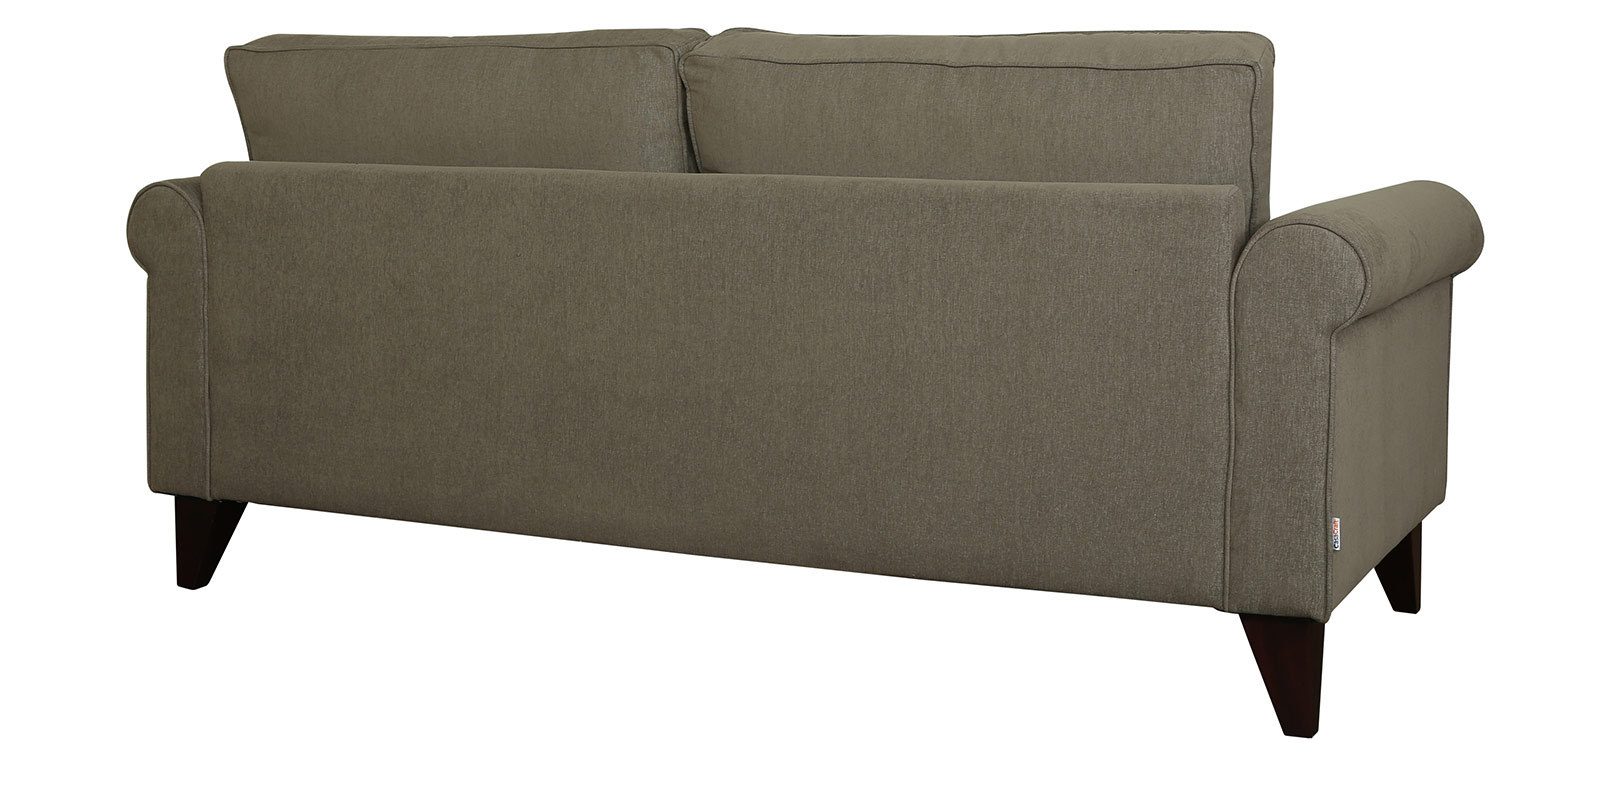Fuego Three Seater Sofa in Sandy Brown Colour by CasaCraft: (123, 6, 1493, 800)
